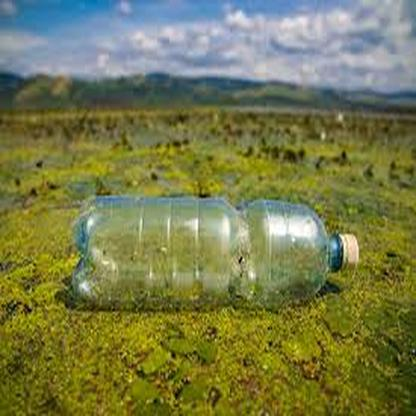plastic bottle: (71, 196, 359, 302)
